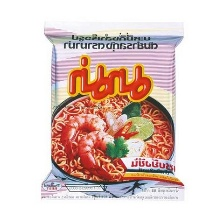snack: (34, 12, 192, 207)
